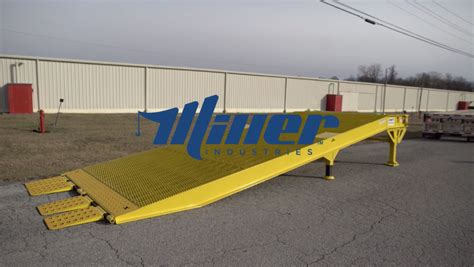Yard Ramp: (27, 109, 410, 231)
